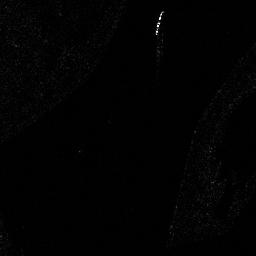ship: (154, 9, 165, 38)
